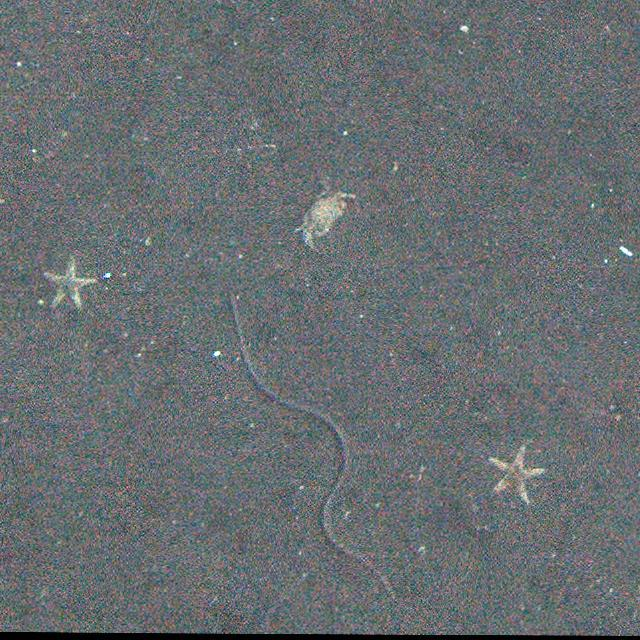eel: (230, 286, 398, 600)
